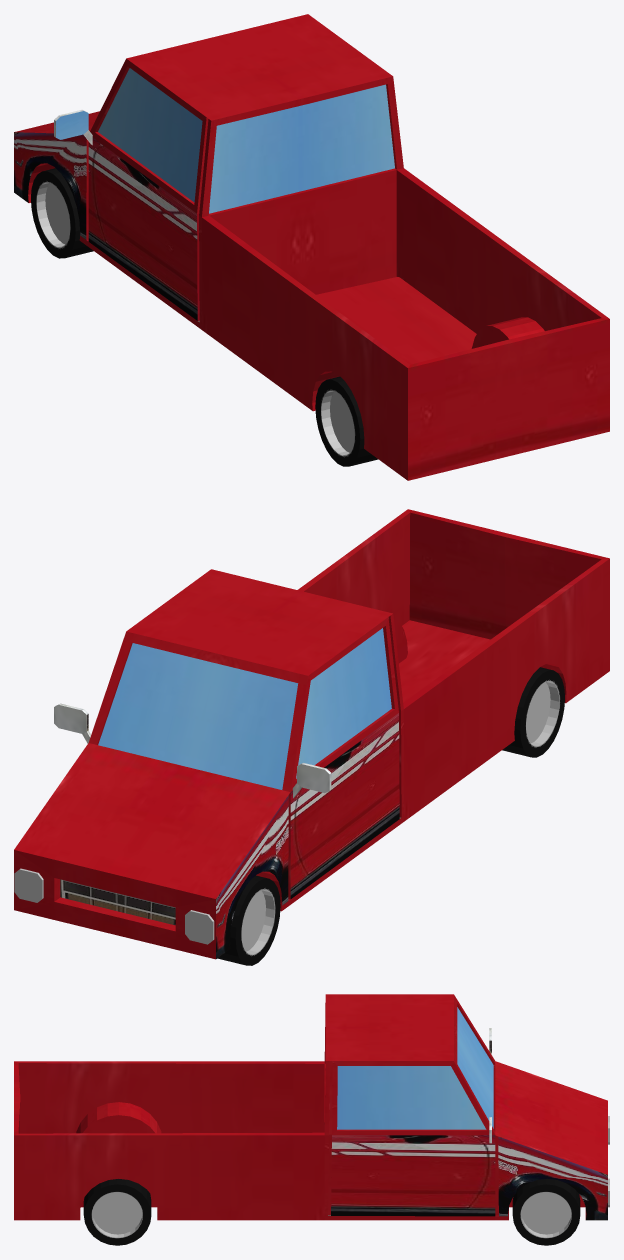
The model's file is pick up3.fbx.
The picture shows the model from 3 angles, top to bottom: view 1: azimuth 30°, elevation 25°; view 2: azimuth 150°, elevation 25°; view 3: azimuth 270°, elevation 25°; orthographic projection. The views are drawn at different scales.
Visible parts, largest first — view 1: body.001, bak belakang, roda, spion; view 2: body.001, bak belakang, roda, spion, lampu depan; view 3: body.001, bak belakang, roda.
Boxes of the visible parts, bbox=[...] form: body.001: bbox=[14, 14, 403, 329]; bak belakang: bbox=[202, 168, 609, 480]; roda: bbox=[31, 168, 378, 466]; spion: bbox=[54, 109, 92, 145]; body.001: bbox=[14, 569, 403, 959]; bak belakang: bbox=[297, 509, 609, 821]; roda: bbox=[217, 667, 564, 965]; spion: bbox=[54, 703, 331, 798]; lampu depan: bbox=[14, 868, 214, 944]; body.001: bbox=[324, 994, 607, 1220]; bak belakang: bbox=[14, 1061, 324, 1220]; roda: bbox=[83, 1178, 580, 1245].
Bounding box in the file's own units: 249 × 207 × 619.
